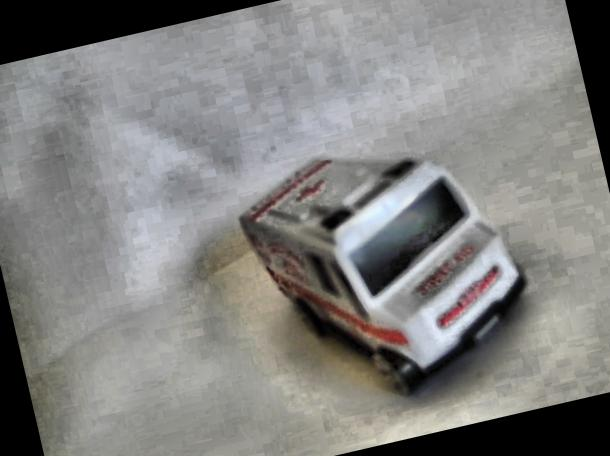ambulance: (228, 116, 544, 423)
